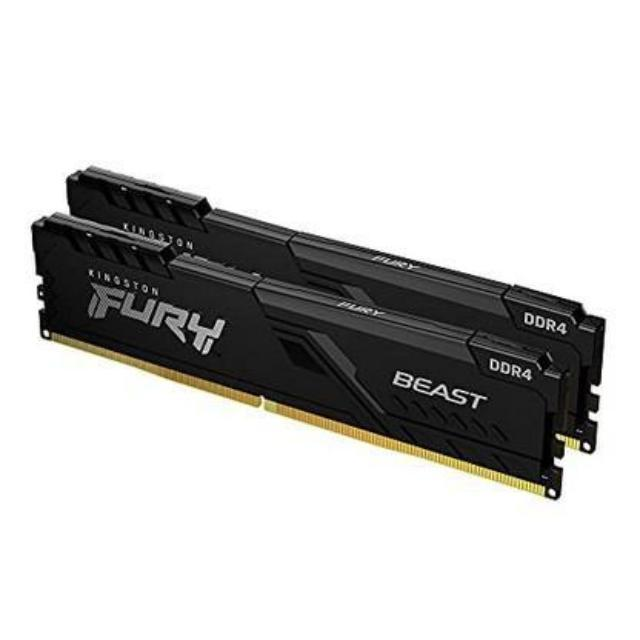RAM: (29, 160, 608, 498)
